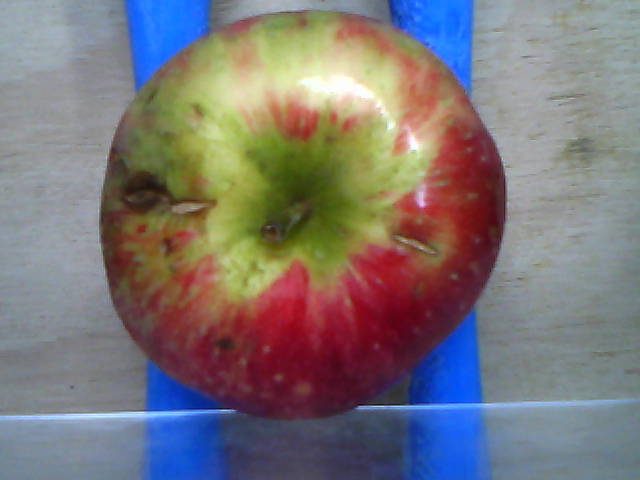cut: (168, 198, 216, 218), (393, 235, 436, 256)
